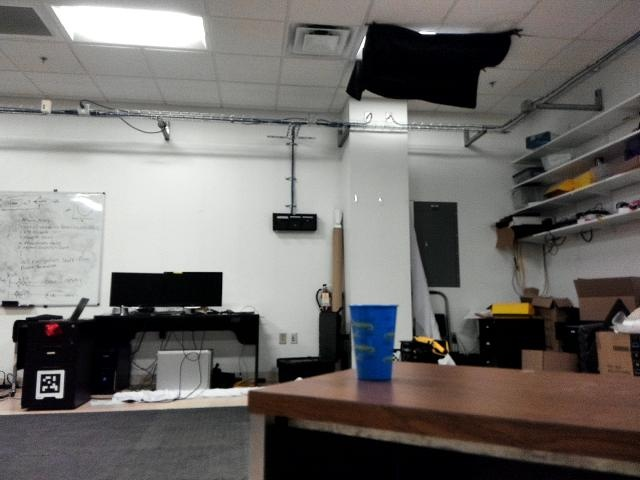water_cup: (338, 301, 403, 386)
